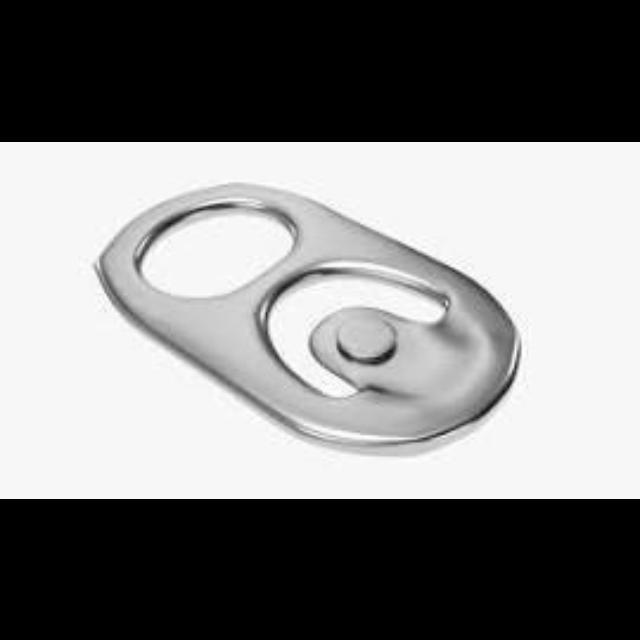aba de lata: (93, 180, 525, 454)
